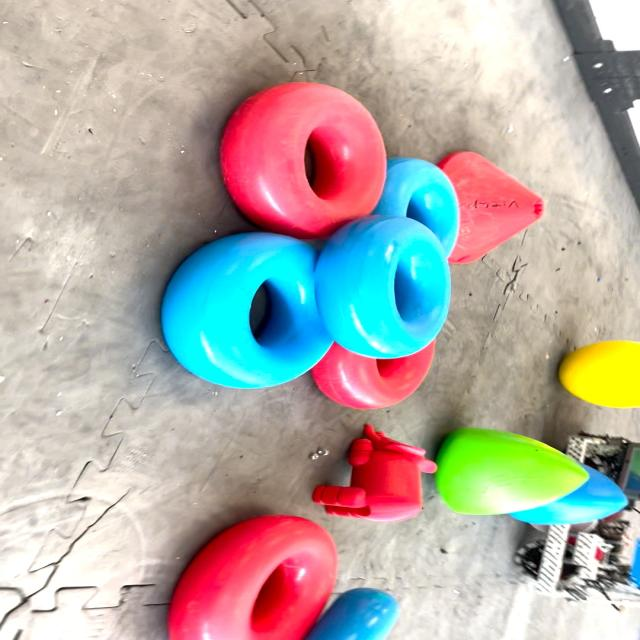Blue-Ring: (162, 232, 333, 389), (316, 215, 451, 359), (371, 158, 460, 254), (303, 587, 401, 640)
Red-Ring: (220, 82, 387, 239), (169, 515, 338, 640), (311, 340, 436, 409)
